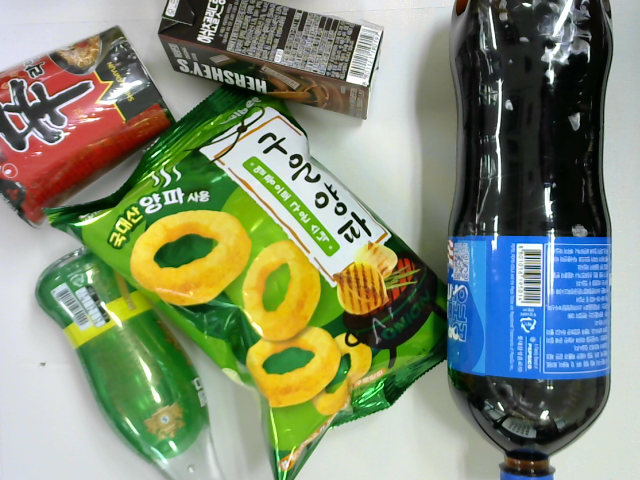Grilled_Onions: (40, 82, 448, 480)
Hush_Choco_Drink: (158, 1, 387, 121)
Pepsi_Cola_1.5L: (445, 1, 617, 480)
Seagram_Lemon_Carbonated_Water: (36, 245, 227, 480)
Sinramen_small: (1, 25, 179, 232)
